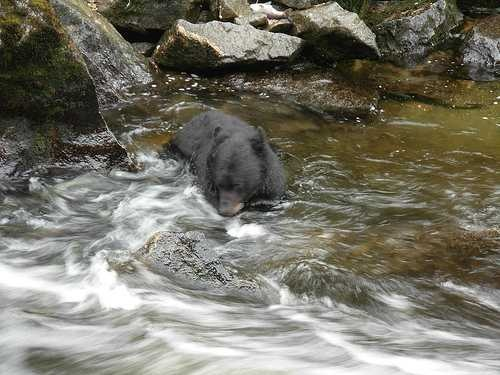bear: (159, 98, 287, 226)
